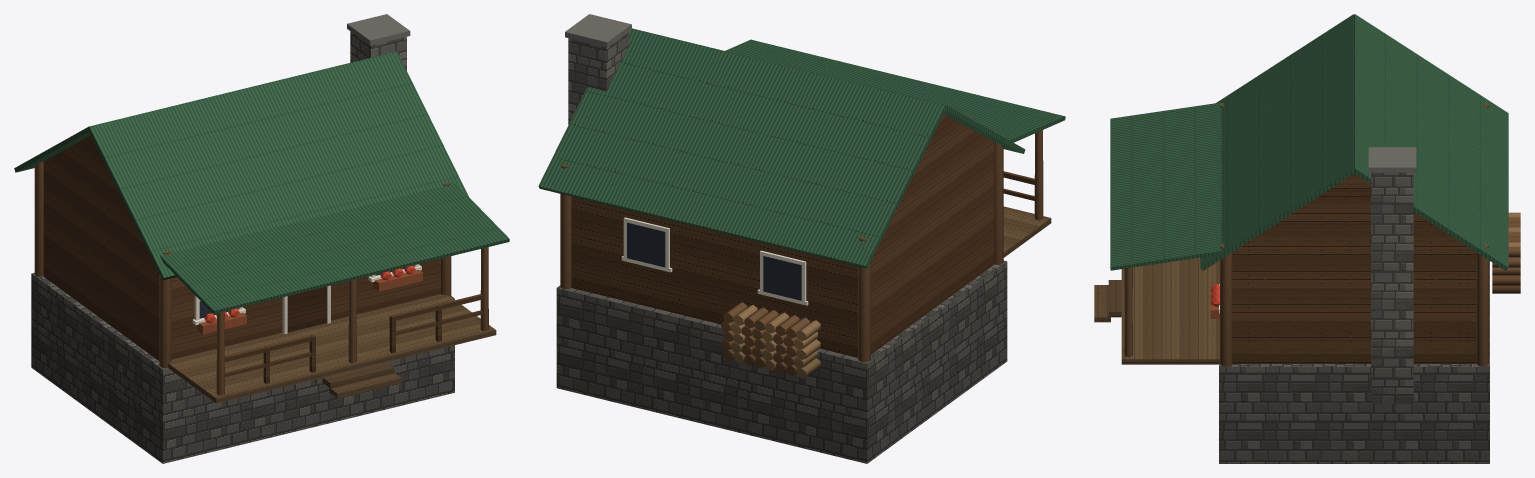
File: cabana_de_campo.glb
The picture shows the model from 3 angles, left to right: view 1: azimuth 30°, elevation 25°; view 2: azimuth 150°, elevation 25°; view 3: azimuth 270°, elevation 25°; orthographic projection. The views are drawn at different scales.
Parts seen in each view (by area): view 1: cabana_de_campo, cabana_de_campo_madeira; view 2: cabana_de_campo, cabana_de_campo_madeira; view 3: cabana_de_campo, cabana_de_campo_madeira.
Boxes of the visible parts, bbox=[...] form: cabana_de_campo: bbox=[14, 14, 509, 463]; cabana_de_campo_madeira: bbox=[43, 135, 496, 403]; cabana_de_campo: bbox=[538, 14, 1065, 463]; cabana_de_campo_madeira: bbox=[571, 114, 1051, 357]; cabana_de_campo: bbox=[1110, 14, 1520, 463]; cabana_de_campo_madeira: bbox=[1094, 173, 1476, 364].
Bounding box in the file's own units: 8.2 × 7.21 × 8.97.
4 materials, 3 textured.
